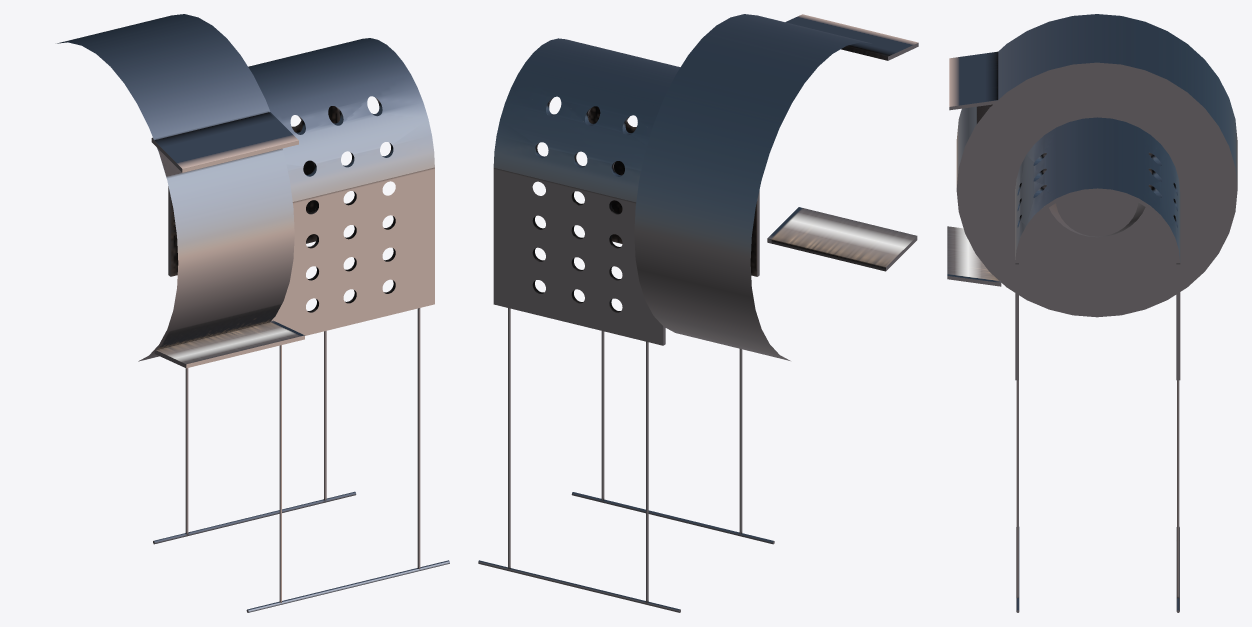
File: dianzi_3.gltf
The picture shows the model from 3 angles, left to right: view 1: azimuth 30°, elevation 25°; view 2: azimuth 150°, elevation 25°; view 3: azimuth 270°, elevation 25°; orthographic projection. The views are drawn at different scales.
Parts seen in each view (by area): view 1: 零件; view 2: 零件; view 3: 零件.
Boxes of the visible parts, x1=… form: 零件: x1=57, y1=14, x2=449, y2=612; 零件: x1=478, y1=14, x2=918, y2=612; 零件: x1=947, y1=14, x2=1237, y2=612.
Size of the model in its own units: 2.88 by 4.94 by 2.76.
Materials: 2 (2 with a texture image).
